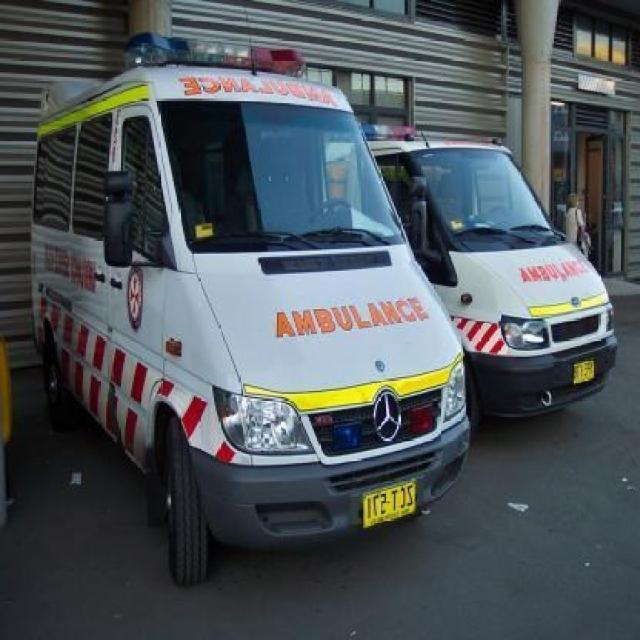Van: (6, 35, 482, 592), (360, 104, 628, 419)
